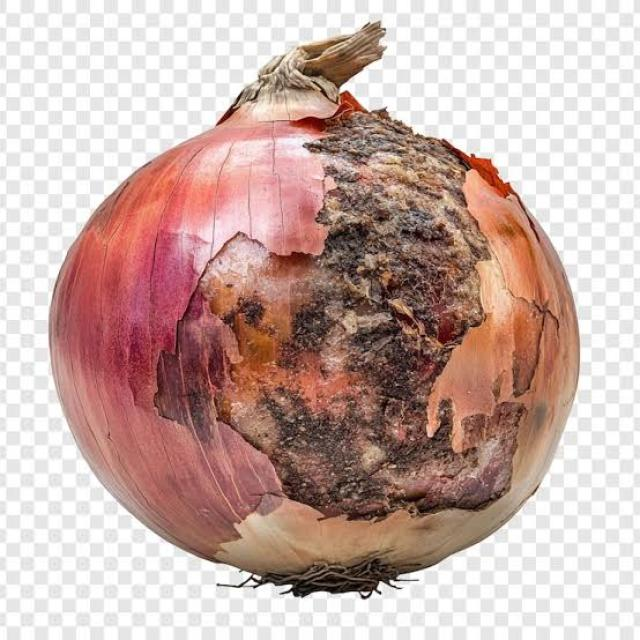rotten: (58, 26, 537, 572)
